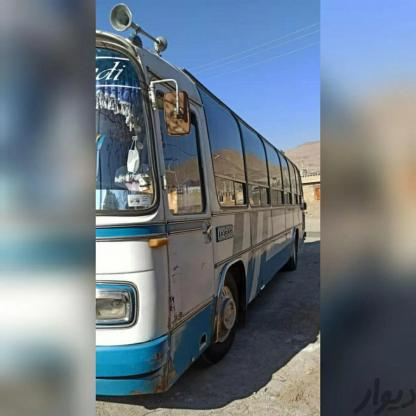Bus: (97, 0, 317, 415)
